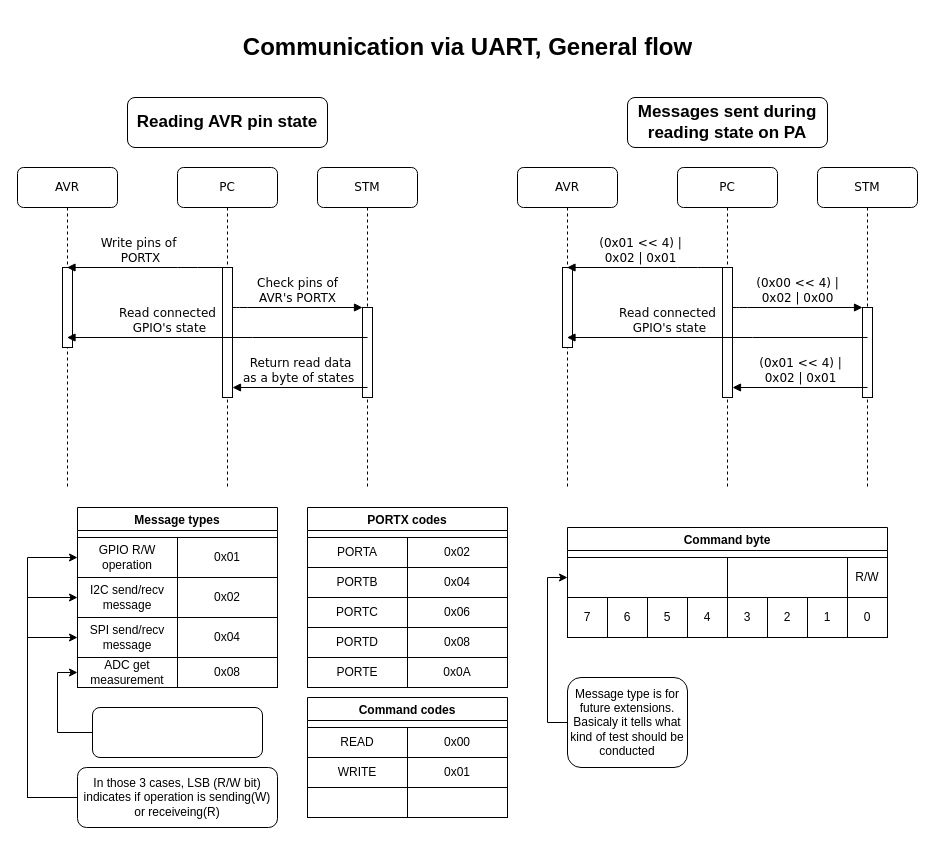
This 935x845 diagram has some shape labels left out. Here are the shapes that lost their labels. From the top down, the centre of each, then its label:
At point 647,577: "Message type".
At point 787,577: "PORT selection".
At point 177,732: "In case of ADC reading, R/W flag should always be 0 (R)".
